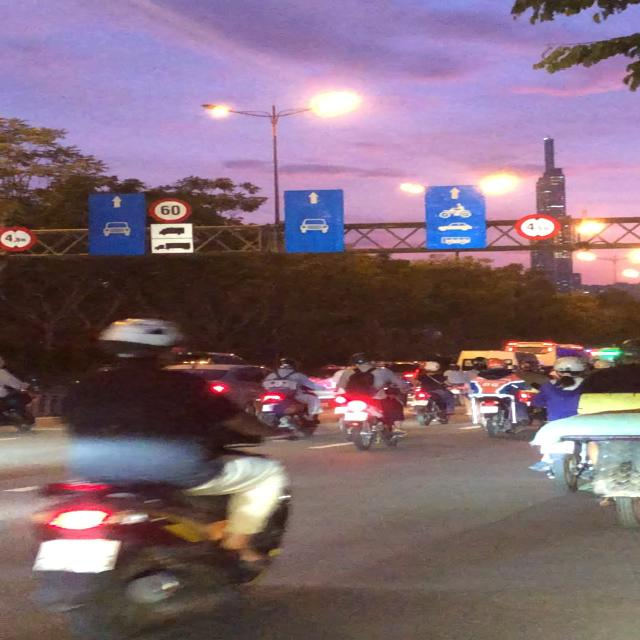Bien bao han che chieu cao: (511, 210, 569, 245), (0, 224, 40, 256)
Bien bao toc do toi da cho phep: (149, 195, 195, 224)
